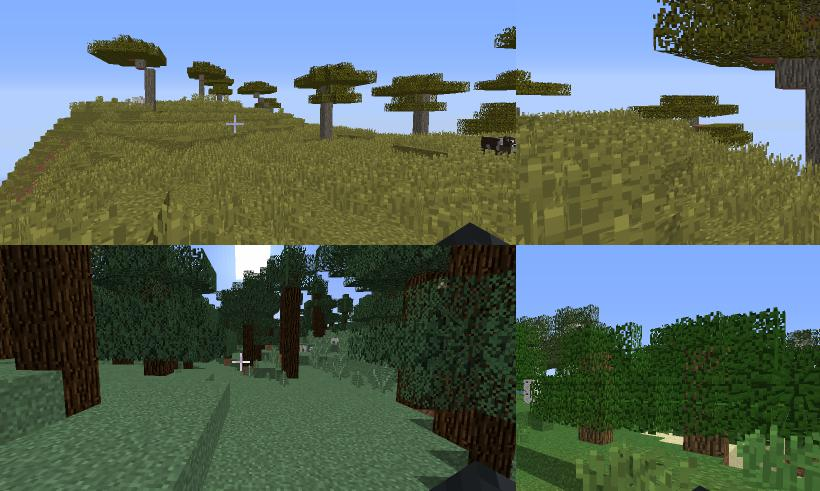minecraft-blocks: (1, 246, 105, 412), (430, 406, 512, 487), (778, 58, 820, 198), (281, 288, 303, 377), (682, 434, 728, 462), (136, 60, 156, 114), (578, 427, 613, 446), (411, 107, 432, 138), (524, 379, 539, 408), (321, 104, 333, 140), (200, 75, 205, 99)
